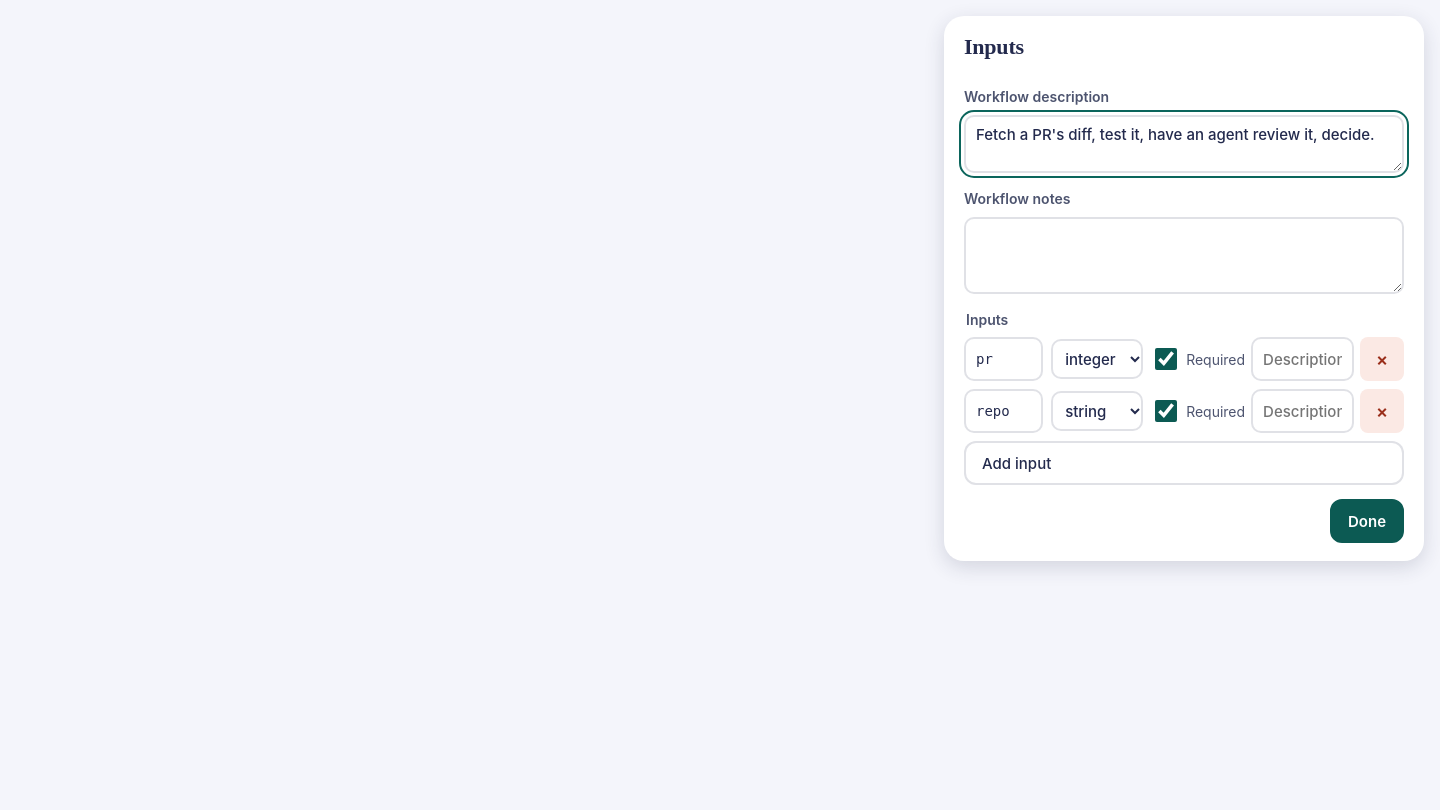
Test: IoEditor: the in node › refuses a duplicate name with guided text, never raw text
Replace the text in the field named "Name of input repo" with "pr": [1004, 412] box [964,390,1043,434]
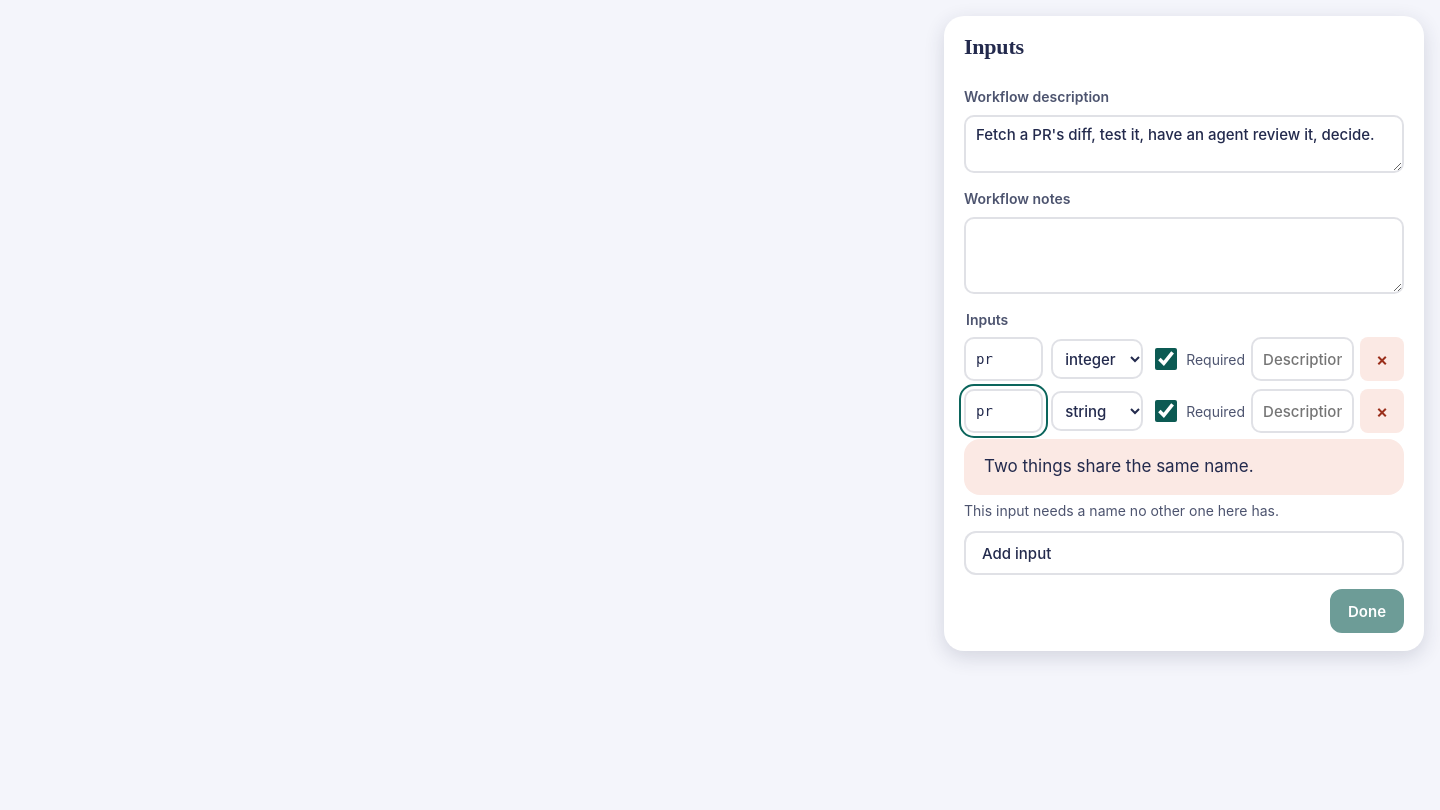
Expected: the button "Done" is disabled, [1330,589,1404,633]
Expected: the message reads "Two things share the same name.", [984,456,1254,476]
